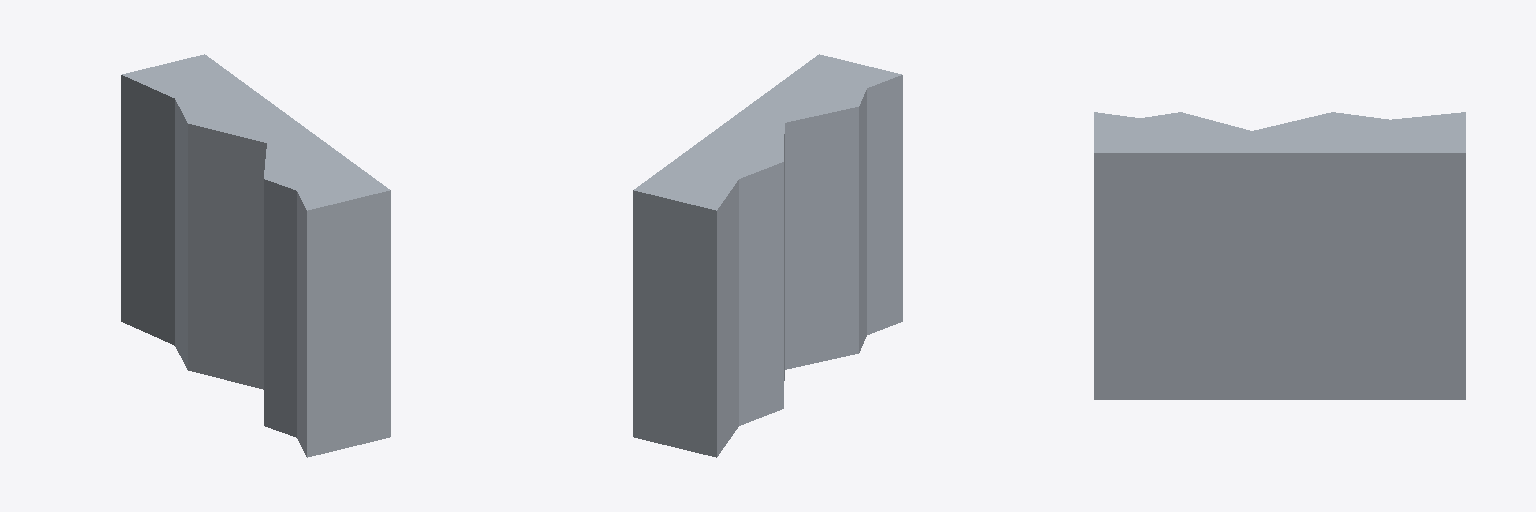
The picture shows the model from 3 angles: view 1: azimuth 30°, elevation 25°; view 2: azimuth 150°, elevation 25°; view 3: azimuth 270°, elevation 25°; orthographic projection.
Visible parts, largest first — view 1: Mesh1 Grey_Cliff Model; view 2: Mesh1 Grey_Cliff Model; view 3: Mesh1 Grey_Cliff Model.
Part boxes in pixels (bbox=[...]): Mesh1 Grey_Cliff Model: bbox=[121, 54, 390, 457]; Mesh1 Grey_Cliff Model: bbox=[633, 54, 902, 457]; Mesh1 Grey_Cliff Model: bbox=[1094, 112, 1465, 399].
Bounding box in the file's own units: 0.26 × 0.7333 × 1.